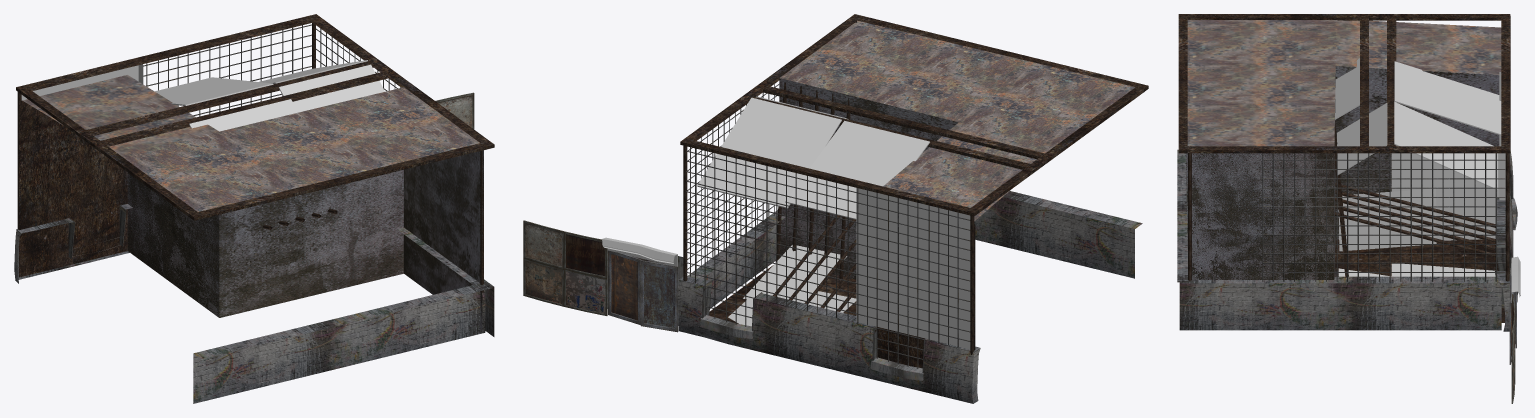
The model's file is building002.FBX.
3 views of the same model, side by side, from view 1: azimuth 30°, elevation 25°; view 2: azimuth 150°, elevation 25°; view 3: azimuth 270°, elevation 25° (orthographic). The views are drawn at different scales.
Visible parts, largest first — view 1: Box045; view 2: Box045; view 3: Box045.
Boxes of the visible parts, left/top/right/bottom form: Box045: left=14, top=14, right=494, bottom=403; Box045: left=523, top=14, right=1148, bottom=403; Box045: left=1177, top=14, right=1520, bottom=403.
Size of the model in its own units: 411 by 168 by 286.
